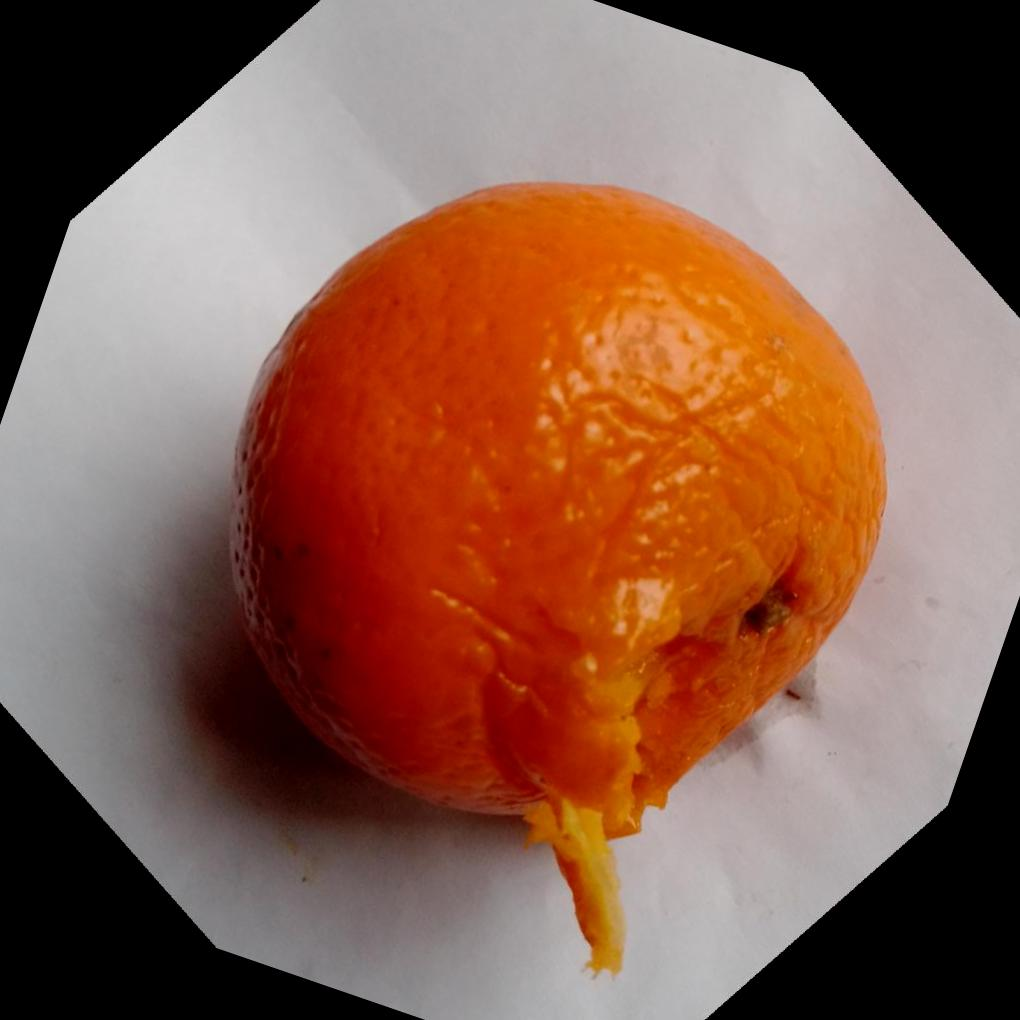FreshOrange: (227, 181, 892, 979)
